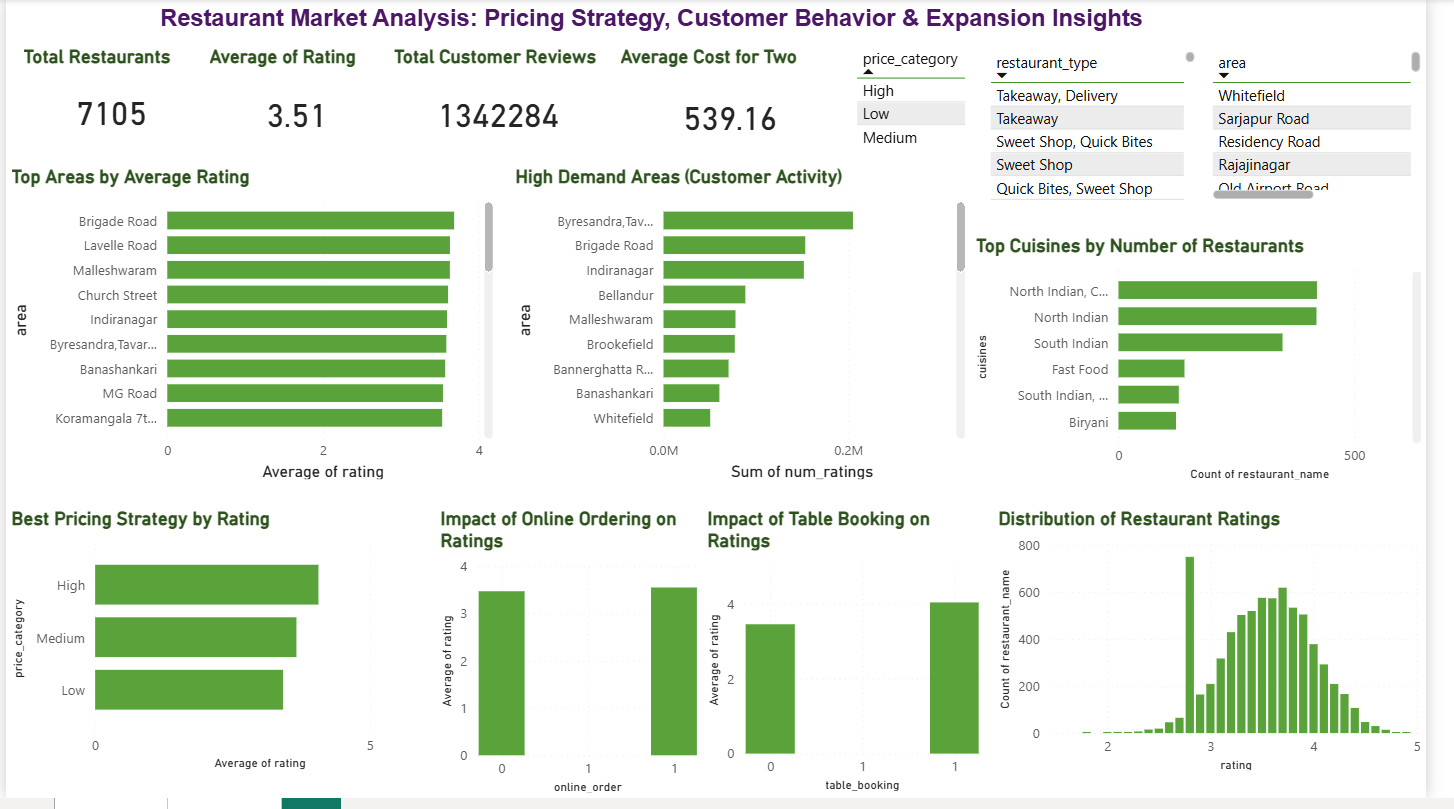

What the dashboard file says about the page in this screenshot:
{"tool":"powerbi","page":{"name":"Page 1","canvas":[1280,720],"ordinal":0},"visuals":[{"type":"tableEx","fields":{"Values":["clean_zomato.area"]},"box":[1081.1,42.4,198.4,143.8],"z":0},{"type":"card","title":"Total Restaurants","fields":{"Values":["Count(clean_zomato.restaurant_name)"]},"box":[10.6,42.4,168.1,99.9],"z":1000},{"type":"textbox","box":[134.5,0,952.4,37.1],"z":2000},{"type":"card","title":"Average of Rating","fields":{"Values":["Avg(clean_zomato.rating)"]},"box":[178.7,42.4,166.6,103],"z":3000},{"type":"card","title":"Total Customer Reviews","fields":{"Values":["Sum(clean_zomato.num_ratings)"]},"box":[345.2,42.4,196.8,103],"z":4000},{"type":"card","title":"Average Cost for Two","fields":{"Values":["Avg(clean_zomato.cost_for_two)"]},"box":[548.1,42.4,205.9,107.5],"z":5000},{"type":"clusteredBarChart","title":"Top Areas by Average Rating","fields":{"Category":["clean_zomato.area"],"Y":["Avg(clean_zomato.rating)"]},"box":[0,149.9,443.7,287.7],"z":6000},{"type":"clusteredBarChart","title":"Best Pricing Strategy by Rating","fields":{"Category":["clean_zomato.price_category"],"Y":["Avg(clean_zomato.rating)"]},"box":[0,458.8,386.1,240.8],"z":7000},{"type":"clusteredBarChart","title":"High Demand Areas (Customer Activity)","fields":{"Category":["clean_zomato.area"],"Y":["Sum(clean_zomato.num_ratings)"]},"box":[454.3,149.9,414.9,287.7],"z":8000},{"type":"clusteredColumnChart","title":"Distribution of Restaurant Ratings","fields":{"Category":["clean_zomato.rating"],"Y":["Count(clean_zomato.restaurant_name)"]},"box":[889.4,458.2,390.6,242],"z":9000},{"type":"clusteredColumnChart","title":"Impact of Online Ordering on Ratings","fields":{"Category":["clean_zomato.online_order"],"Y":["Avg(clean_zomato.rating)"]},"box":[386.1,458.8,240.8,262],"z":10000},{"type":"clusteredColumnChart","title":"Impact of Table Booking on Ratings","fields":{"Category":["clean_zomato.table_booking"],"Y":["Avg(clean_zomato.rating)"]},"box":[626.9,458.8,254.4,260.4],"z":11000},{"type":"clusteredBarChart","title":"Top Cuisines by Number of Restaurants","fields":{"Category":["clean_zomato.cuisines"],"Y":["Count(clean_zomato.restaurant_name)"]},"box":[869.2,212.2,410.9,225.7],"z":12000},{"type":"tableEx","fields":{"Values":["clean_zomato.price_category"]},"box":[761.6,37.9,131.7,104.5],"z":13000},{"type":"tableEx","fields":{"Values":["clean_zomato.restaurant_type"]},"box":[881.3,42.4,195.3,143.8],"z":14000}]}

Visuals, with their boxes in screenshot pixels (x1, y1, x2, y2), scaled from the page's 1280x720 canvas onto the 1454x809 screenshot:
tableEx - clean_zomato.area: select_region(1228, 48, 1453, 209)
"Total Restaurants" card: select_region(12, 48, 203, 160)
textbox: select_region(153, 0, 1235, 42)
"Average of Rating" card: select_region(203, 48, 392, 163)
"Total Customer Reviews" card: select_region(392, 48, 616, 163)
"Average Cost for Two" card: select_region(623, 48, 856, 168)
"Top Areas by Average Rating" clusteredBarChart: select_region(0, 168, 504, 492)
"Best Pricing Strategy by Rating" clusteredBarChart: select_region(0, 516, 439, 786)
"High Demand Areas (Customer Activity)" clusteredBarChart: select_region(516, 168, 987, 492)
"Distribution of Restaurant Ratings" clusteredColumnChart: select_region(1010, 515, 1453, 787)
"Impact of Online Ordering on Ratings" clusteredColumnChart: select_region(439, 516, 712, 808)
"Impact of Table Booking on Ratings" clusteredColumnChart: select_region(712, 516, 1001, 808)
"Top Cuisines by Number of Restaurants" clusteredBarChart: select_region(987, 238, 1453, 492)
tableEx - clean_zomato.price_category: select_region(865, 43, 1015, 160)
tableEx - clean_zomato.restaurant_type: select_region(1001, 48, 1223, 209)
